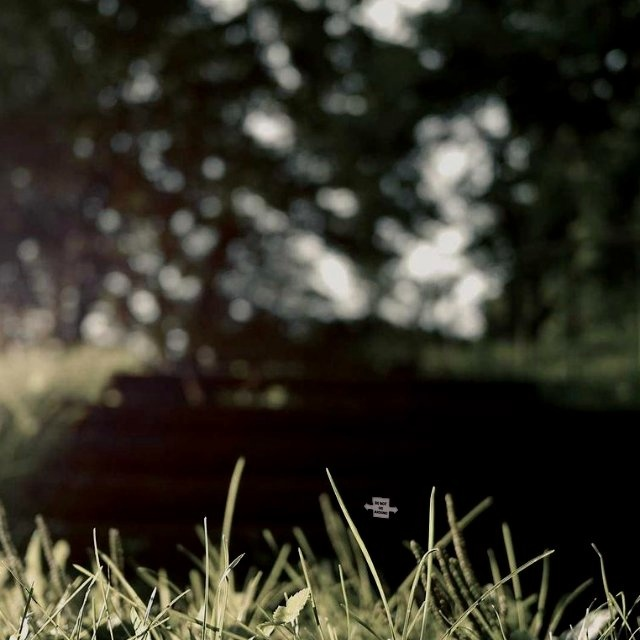DO_NOT_GO_AROUND: (363, 496, 399, 519)
